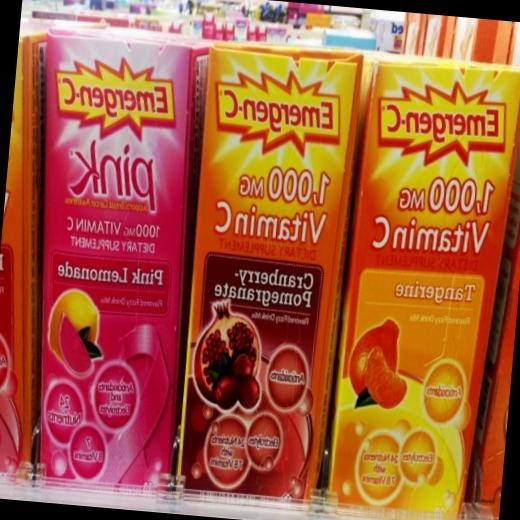Grape: (45, 287, 101, 359)
